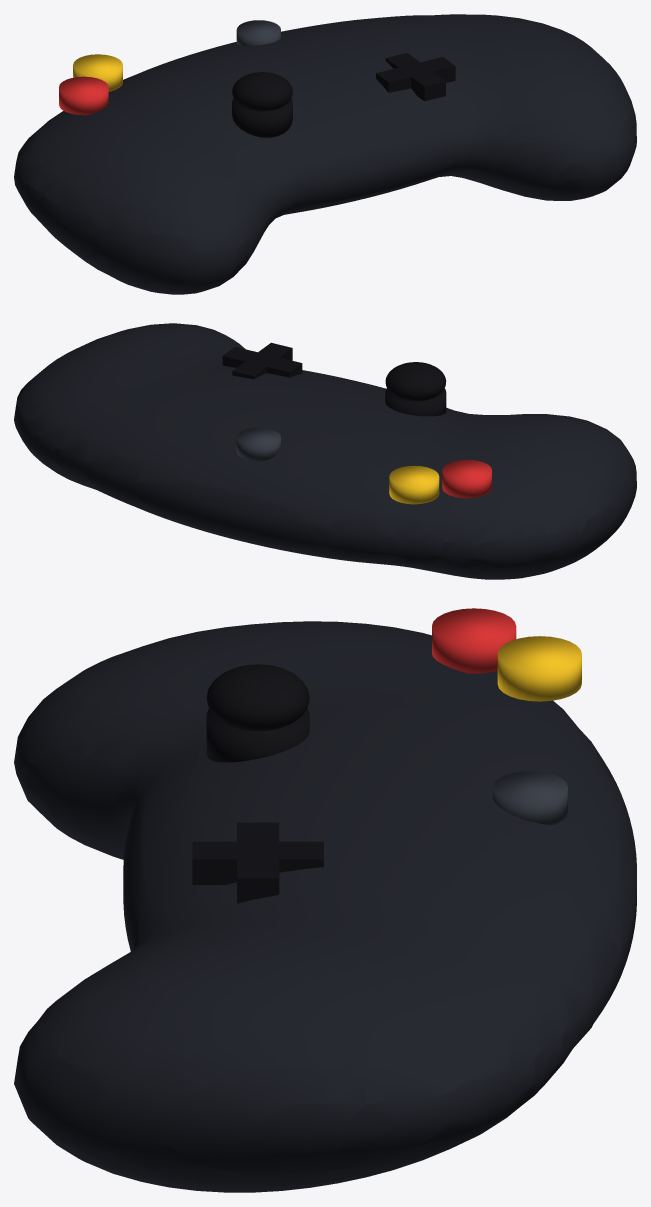
The model's file is TutPad_Body.obj.
3 renders of one model, top to bottom at view 1: azimuth 30°, elevation 25°; view 2: azimuth 150°, elevation 25°; view 3: azimuth 270°, elevation 25°, orthographic. The views are drawn at different scales.
Parts seen in each view (by area): view 1: TutPad_Body; view 2: TutPad_Body; view 3: TutPad_Body.
Part boxes in pixels (x1,y1,x2,y2): TutPad_Body: (14,14,636,294); TutPad_Body: (14,323,636,579); TutPad_Body: (14,608,636,1192).
Bounding box in the file's own units: 1.18 × 0.3304 × 0.6637.
Materials: 5 (5 with a texture image).
